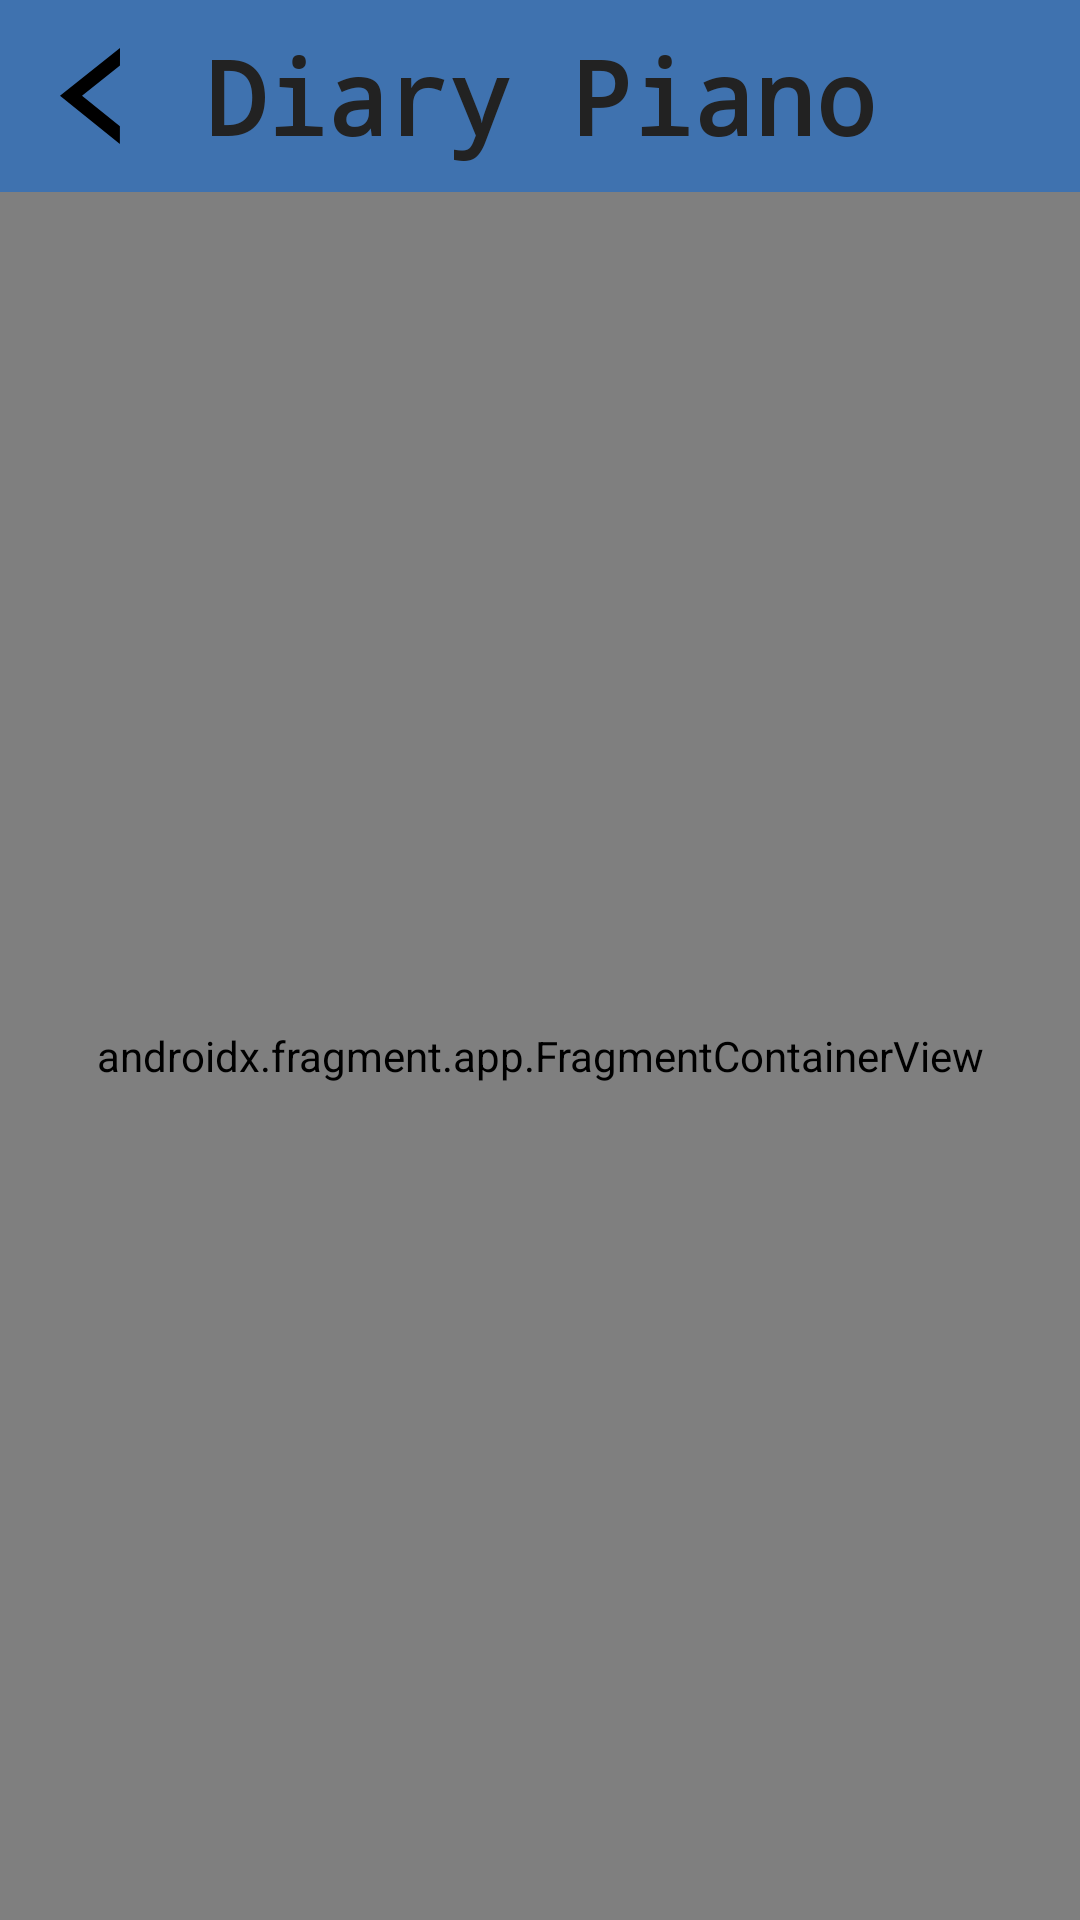

Where icons sit on this 1080×1920 app screen, as (x1, y1, x2, y2):
note return: (60, 48, 120, 144)
